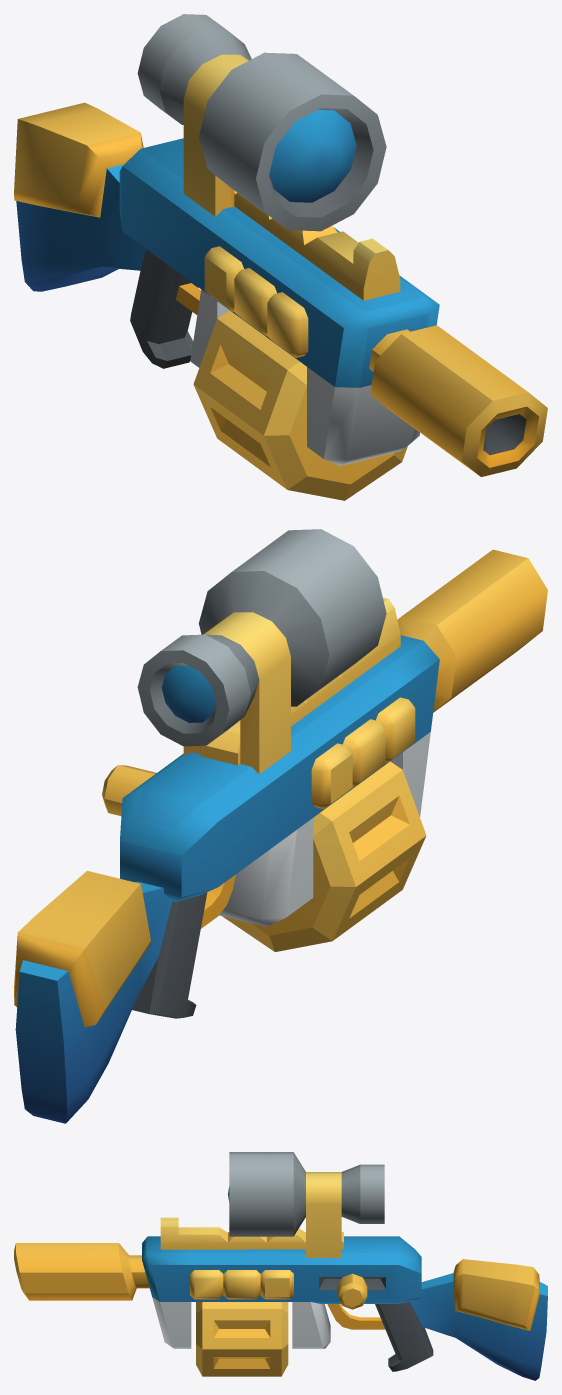
The model's file is Gun_Sniper.gltf.
3 views of the same model, one above another, from view 1: azimuth 30°, elevation 25°; view 2: azimuth 150°, elevation 25°; view 3: azimuth 270°, elevation 25° (orthographic). The views are drawn at different scales.
Parts seen in each view (by area): view 1: Gun_Sniper, Gun_Sniper_Scope, Gun_Sniper_Magazine; view 2: Gun_Sniper, Gun_Sniper_Scope, Gun_Sniper_Magazine; view 3: Gun_Sniper, Gun_Sniper_Scope, Gun_Sniper_Magazine.
Part boxes in pixels (x1,y1,x2,y2): Gun_Sniper: (14, 102, 547, 476); Gun_Sniper_Scope: (137, 14, 386, 231); Gun_Sniper_Magazine: (193, 310, 407, 500); Gun_Sniper: (14, 549, 547, 1123); Gun_Sniper_Scope: (137, 529, 386, 774); Gun_Sniper_Magazine: (222, 761, 426, 951); Gun_Sniper: (14, 1217, 547, 1380); Gun_Sniper_Scope: (228, 1152, 384, 1257); Gun_Sniper_Magazine: (196, 1302, 288, 1376).
Size of the model in its own units: 0.3661 by 0.7532 by 1.65.
1 material, 1 textured.
